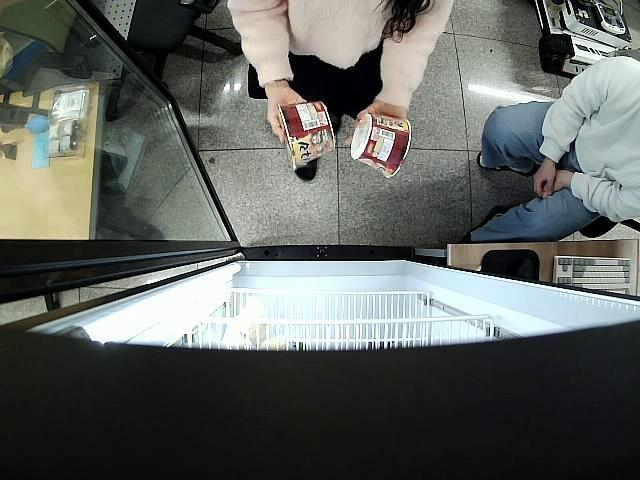05_nuguri_L: (349, 111, 412, 179), (276, 101, 335, 172)
